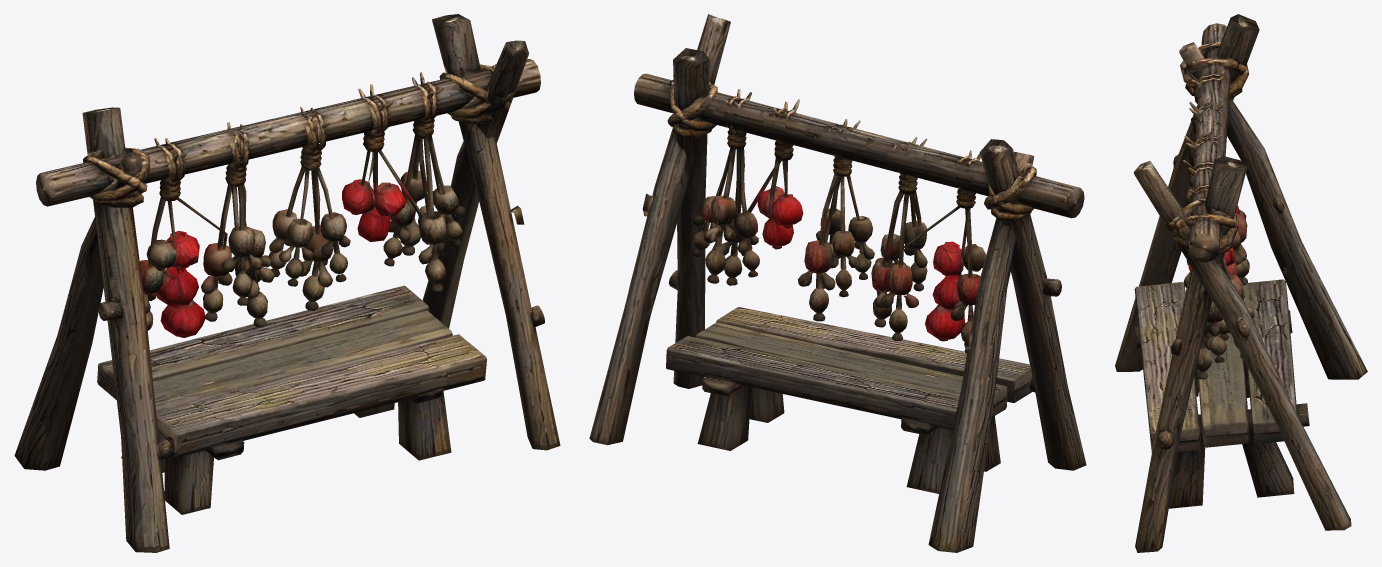
File: act1-a08-6-poppy-rack.glb
3 renders of one model, left to right at view 1: azimuth 30°, elevation 25°; view 2: azimuth 150°, elevation 25°; view 3: azimuth 270°, elevation 25°, orthographic. The views are drawn at different scales.
Visible parts, largest first — view 1: act1-a08-6-poppy-rack; view 2: act1-a08-6-poppy-rack; view 3: act1-a08-6-poppy-rack.
Part boxes in pixels (x1,y1,x2,y2): act1-a08-6-poppy-rack: [14, 14, 560, 552]; act1-a08-6-poppy-rack: [589, 14, 1086, 552]; act1-a08-6-poppy-rack: [1115, 14, 1367, 552].
Size of the model in its own units: 3.6 by 2.93 by 1.8.
1 material, 1 textured.
